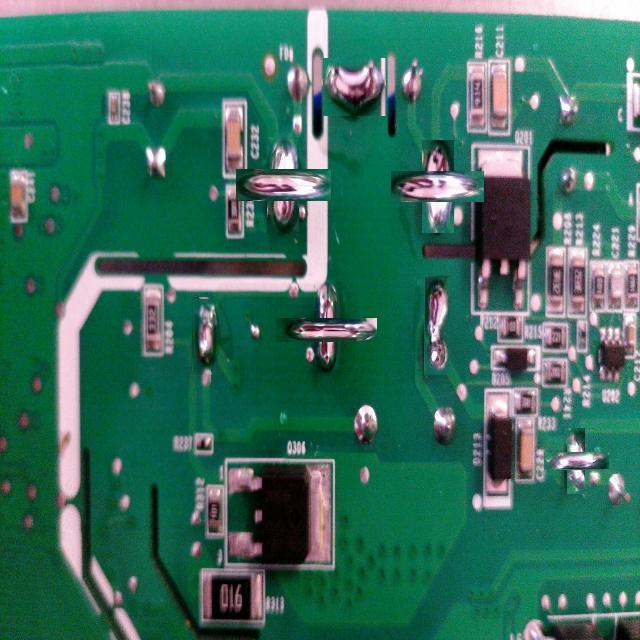Short_circuit: (252, 153, 316, 217), (407, 155, 469, 218), (295, 299, 357, 362), (323, 58, 386, 116), (424, 276, 450, 376), (192, 298, 218, 376), (556, 440, 598, 482)
